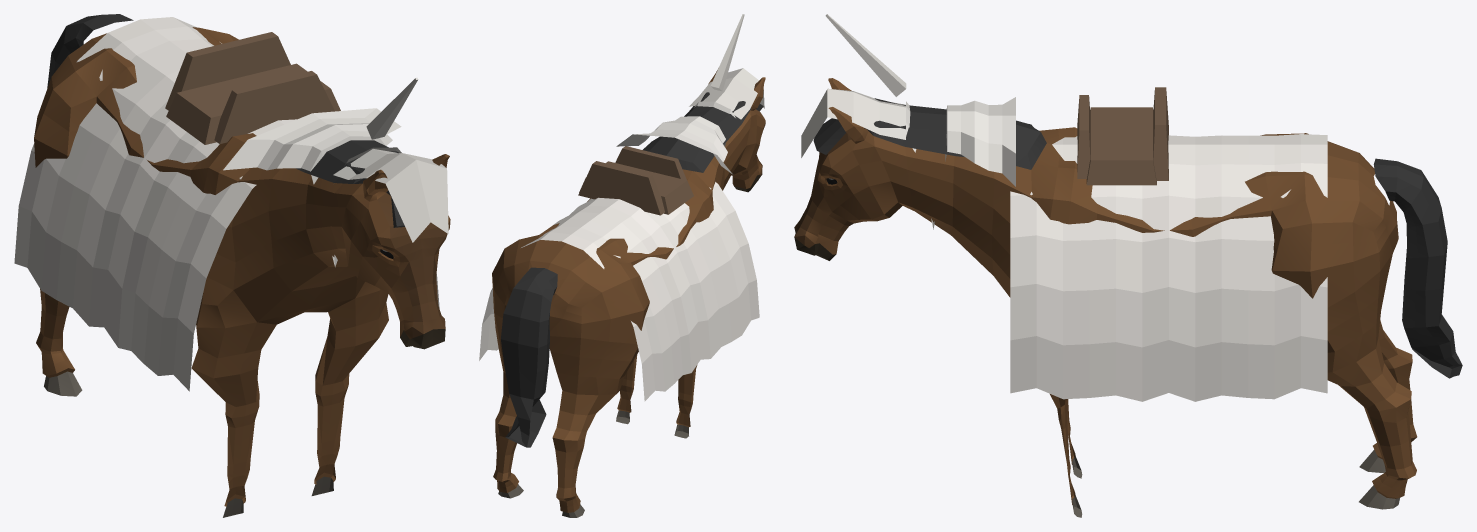
The model's file is horse.glb.
3 renders of one model, left to right at view 1: azimuth 30°, elevation 25°; view 2: azimuth 150°, elevation 25°; view 3: azimuth 270°, elevation 25°, orthographic. The views are drawn at different scales.
Parts seen in each view (by area): view 1: Horse, Caparison, Saddle, Chanfron, Crinet; view 2: Horse, Caparison, Saddle, Crinet, Chanfron; view 3: Horse, Caparison, Saddle, Crinet, Chanfron.
Boxes of the visible parts, left/top/right/bottom form: Horse: left=34, top=14, right=450, bottom=517; Caparison: left=14, top=17, right=439, bottom=391; Saddle: left=165, top=32, right=340, bottom=144; Chanfron: left=333, top=77, right=448, bottom=242; Crinet: left=223, top=108, right=401, bottom=267; Horse: left=492, top=68, right=765, bottom=517; Caparison: left=479, top=182, right=759, bottom=401; Saddle: left=578, top=146, right=693, bottom=215; Crinet: left=616, top=101, right=735, bottom=174; Chanfron: left=689, top=14, right=764, bottom=119; Horse: left=794, top=78, right=1462, bottom=517; Caparison: left=1010, top=134, right=1327, bottom=401; Saddle: left=1077, top=87, right=1168, bottom=185; Crinet: left=906, top=97, right=1015, bottom=229; Chanfron: left=801, top=14, right=906, bottom=157.
Bounding box in the file's own units: 2.28 × 4.51 × 5.69.
